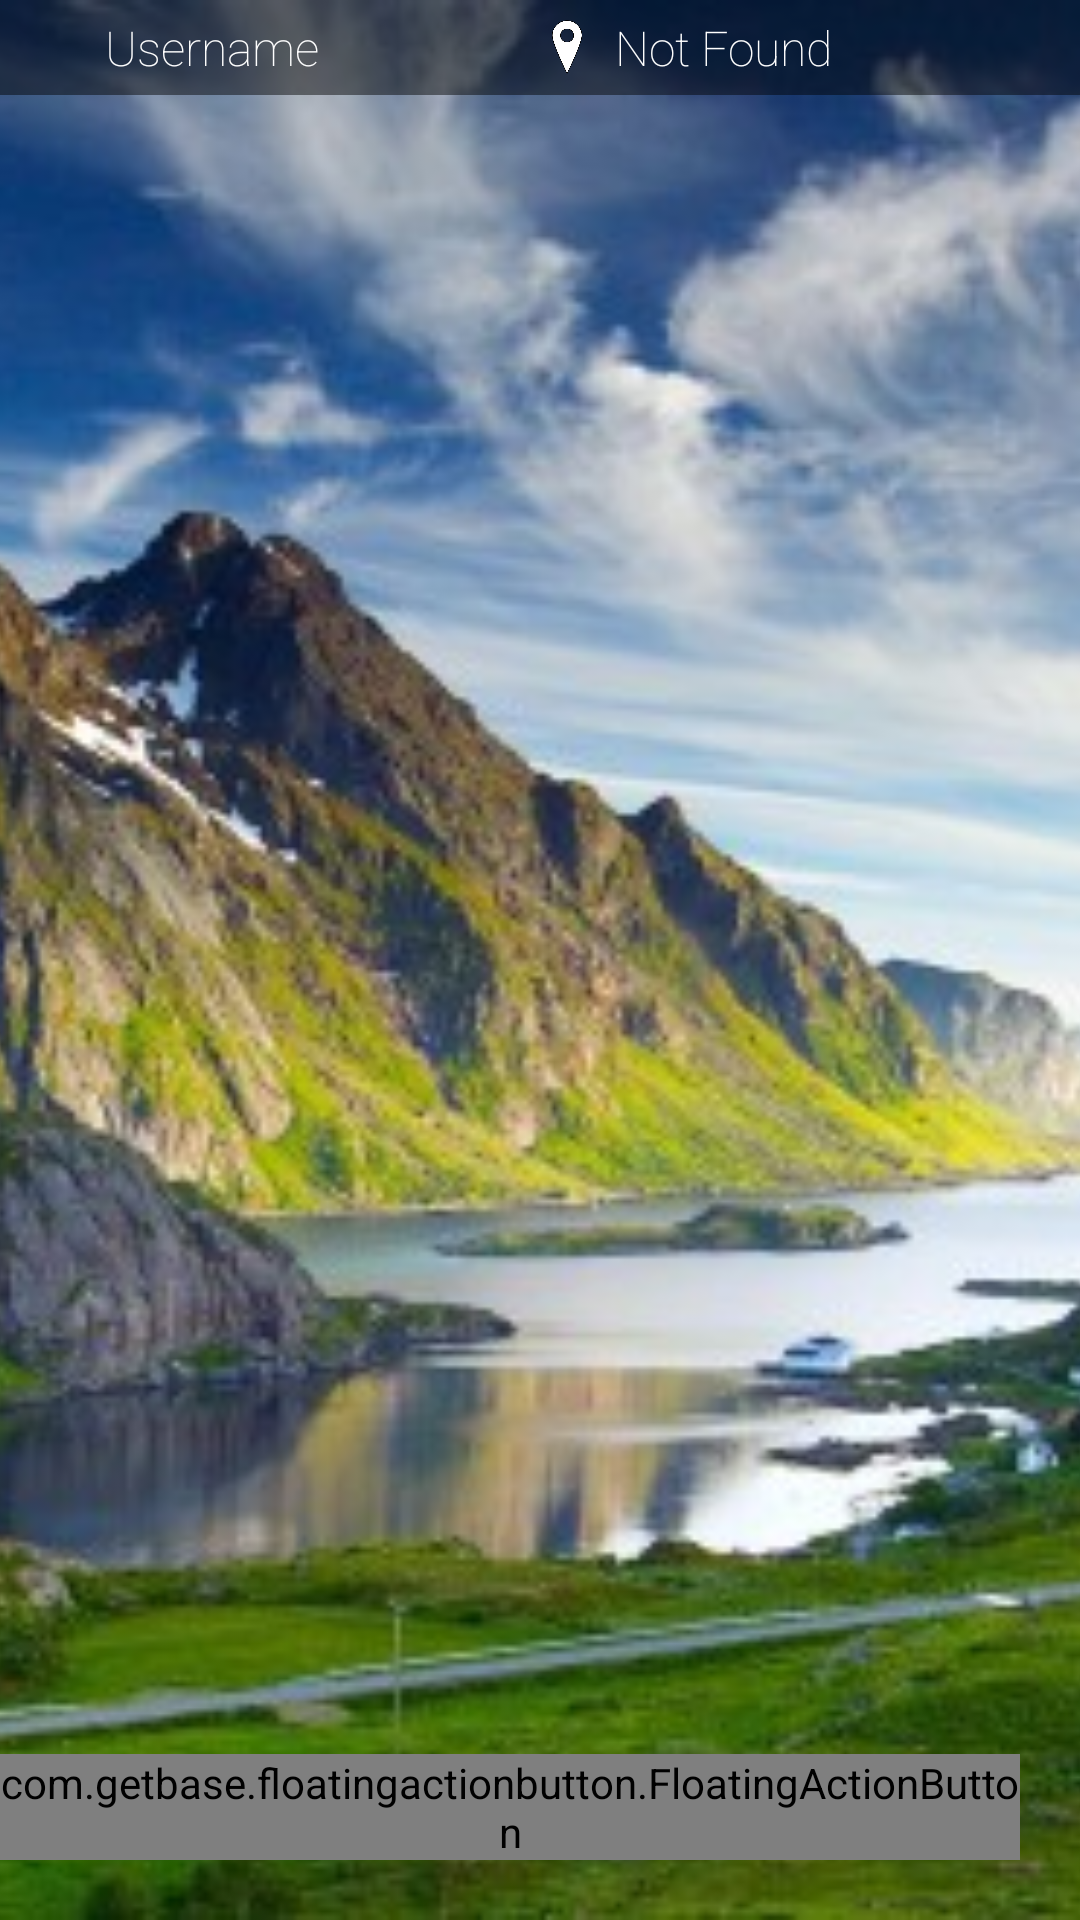

Where to tap for icons on this 1080 x 1920 app screen, as point (x, y):
loc: point (567, 46)
